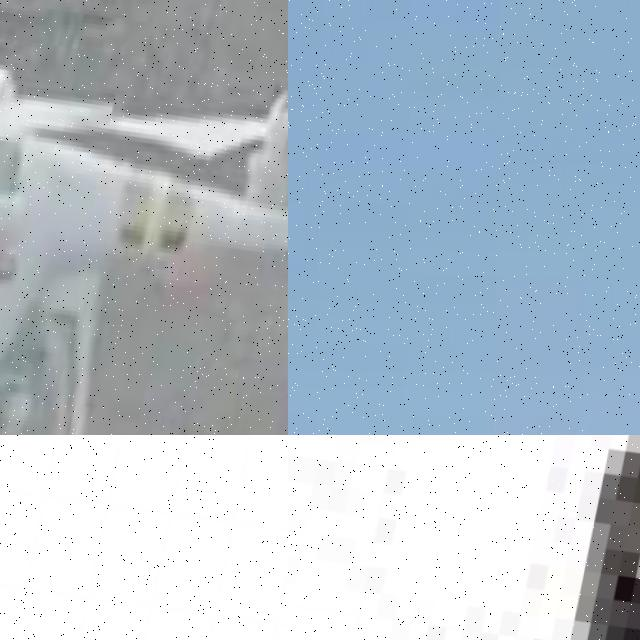drone: (0, 0, 288, 435), (288, 435, 640, 640), (0, 435, 288, 640)
